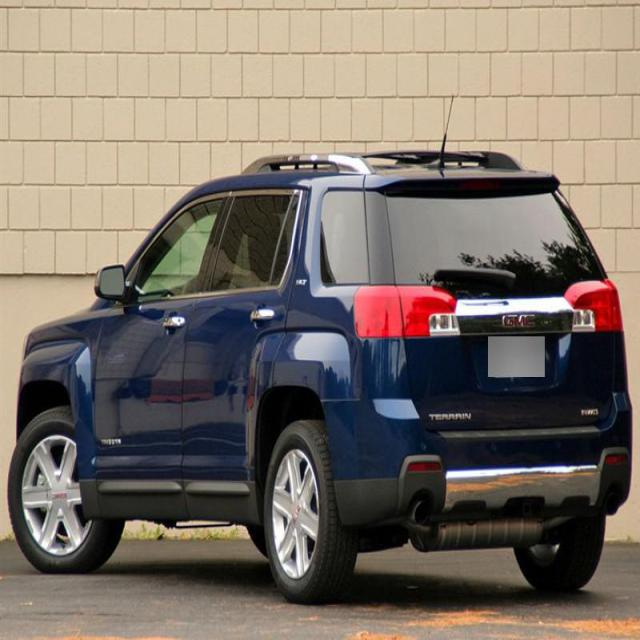back_glass: (385, 180, 606, 302)
back_left_side_light: (353, 282, 461, 339)
back_right_side_light: (565, 279, 622, 335)
door: (184, 190, 310, 510)
front_left_side_door: (90, 185, 230, 496)
front_left_side_mirror: (94, 263, 130, 306)
rear_bumper: (318, 387, 633, 531)
wheel: (9, 408, 123, 574), (264, 420, 354, 606), (513, 520, 606, 590)
